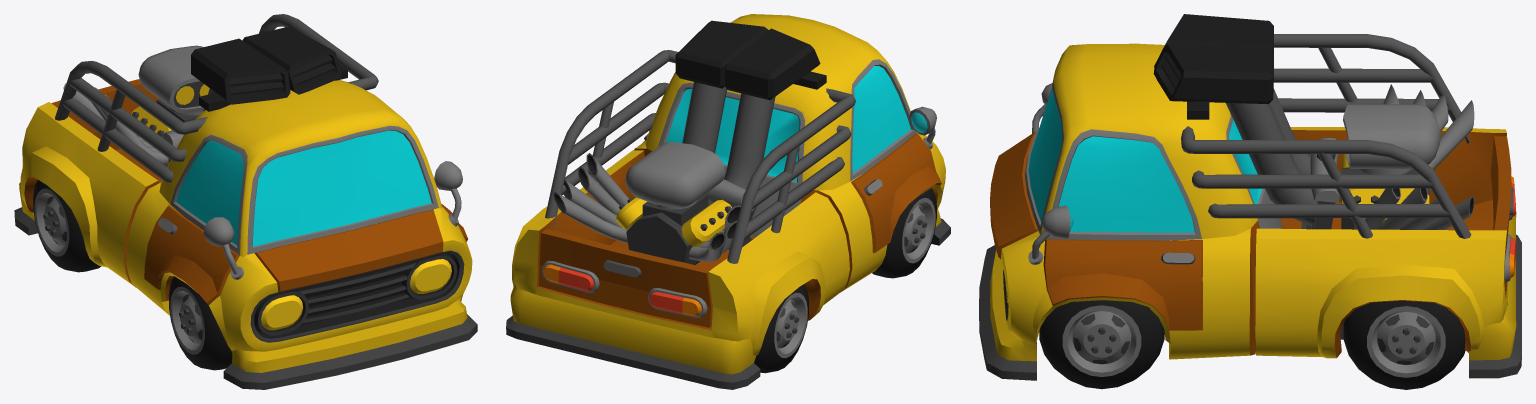
File: VEH20-A.fbx
3 renders of one model, left to right at view 1: azimuth 30°, elevation 25°; view 2: azimuth 150°, elevation 25°; view 3: azimuth 270°, elevation 25°, orthographic. The views are drawn at different scales.
Visible parts, largest first — view 1: VEH20_A, V20A_Wheel_FR, V20A_Wheel_BR; view 2: VEH20_A, V20A_Wheel_FR, V20A_Wheel_BR; view 3: VEH20_A, V20A_Wheel_FL, V20A_Wheel_BL.
Part boxes in pixels (bbox=[...]): VEH20_A: bbox=[14, 14, 477, 389]; V20A_Wheel_FR: bbox=[168, 276, 232, 370]; V20A_Wheel_BR: bbox=[33, 180, 101, 272]; VEH20_A: bbox=[506, 14, 950, 389]; V20A_Wheel_FR: bbox=[872, 188, 936, 278]; V20A_Wheel_BR: bbox=[754, 284, 808, 373]; VEH20_A: bbox=[979, 14, 1521, 380]; V20A_Wheel_FL: bbox=[1039, 300, 1164, 389]; V20A_Wheel_BL: bbox=[1343, 300, 1465, 389].
Size of the model in its own units: 253 by 223 by 385.
1 material, 1 textured.
